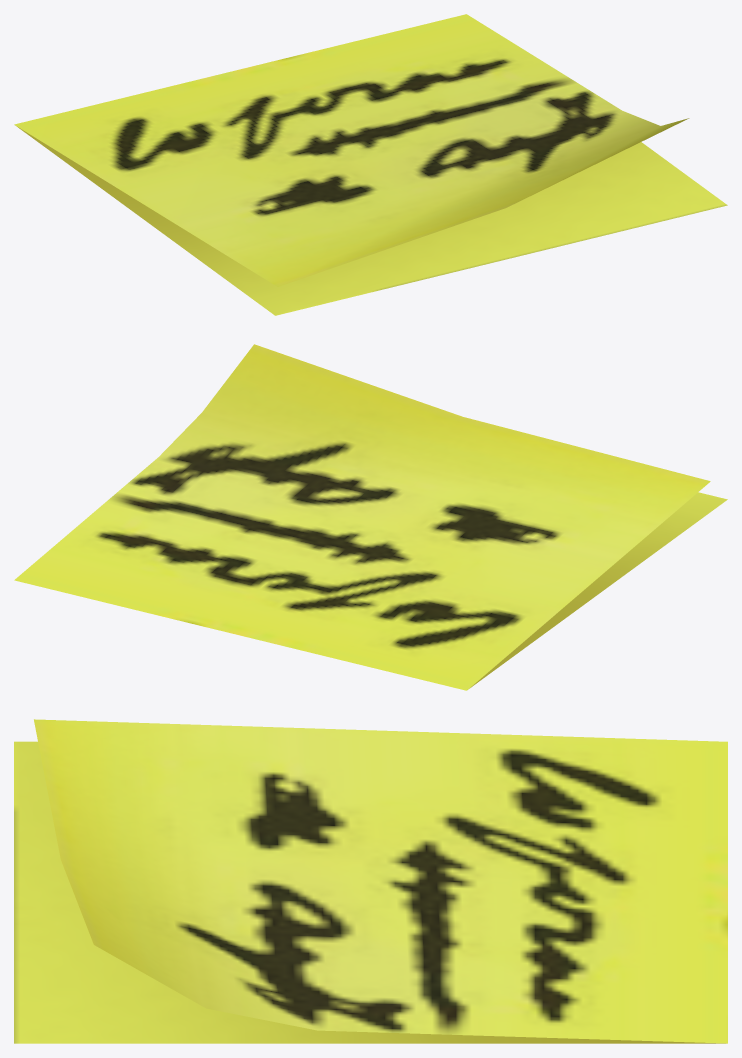
The model's file is ShaShouJia_01_bianqian_01.FBX.
3 views of the same model, one above another, from view 1: azimuth 30°, elevation 25°; view 2: azimuth 150°, elevation 25°; view 3: azimuth 270°, elevation 25° (orthographic). The views are drawn at different scales.
Parts seen in each view (by area): view 1: ShaShouJia_01_bianqian_01; view 2: ShaShouJia_01_bianqian_01; view 3: ShaShouJia_01_bianqian_01.
Boxes of the visible parts, <box> form: ShaShouJia_01_bianqian_01: <box>14,14,727,315</box>; ShaShouJia_01_bianqian_01: <box>14,344,727,690</box>; ShaShouJia_01_bianqian_01: <box>14,719,727,1043</box>.
Bounding box in the file's own units: 89.48 × 12.74 × 88.43.
